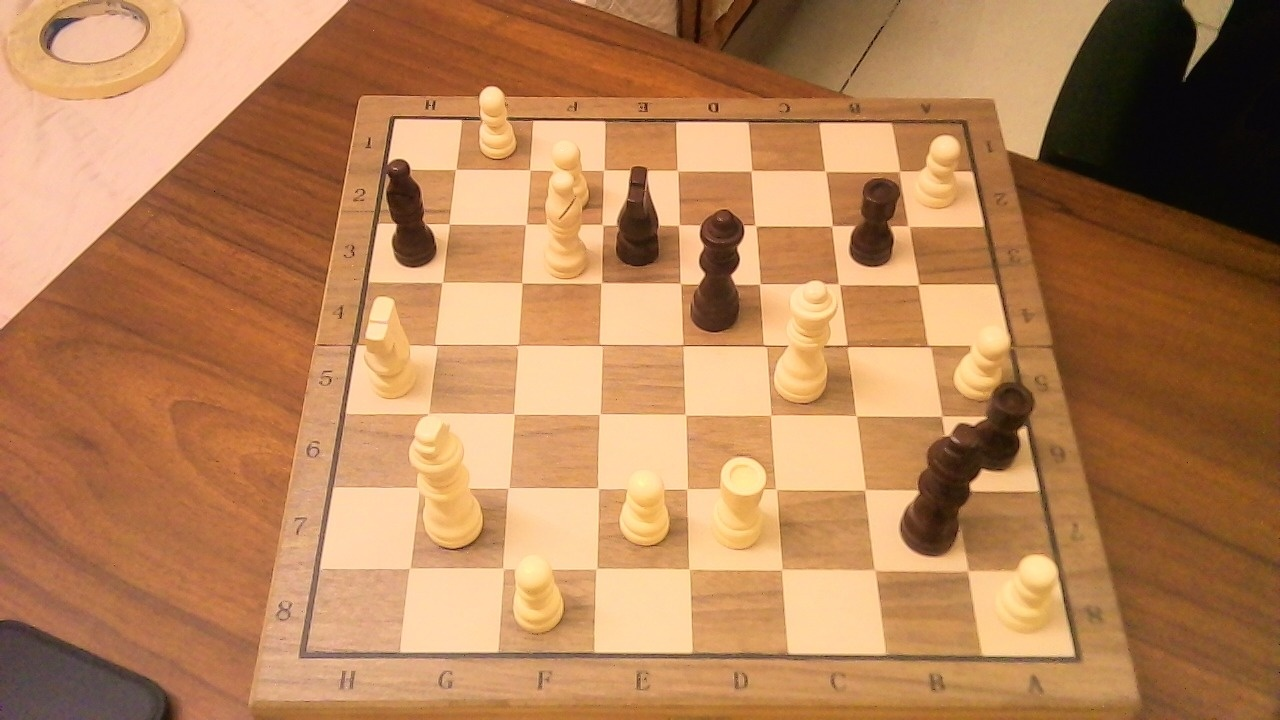B: (531, 161, 597, 282)
K: (405, 403, 493, 552)
N: (354, 323, 423, 405)
P: (989, 544, 1068, 637), (505, 544, 572, 638), (947, 316, 1018, 404), (608, 459, 677, 549), (910, 126, 970, 213), (468, 78, 522, 162), (540, 132, 594, 213)
Q: (772, 269, 847, 406)
R: (702, 445, 776, 556)
b: (378, 147, 444, 272)
k: (894, 408, 994, 563)
n: (608, 154, 672, 270)
q: (687, 199, 760, 336)
r: (960, 369, 1044, 473), (843, 164, 912, 272)
